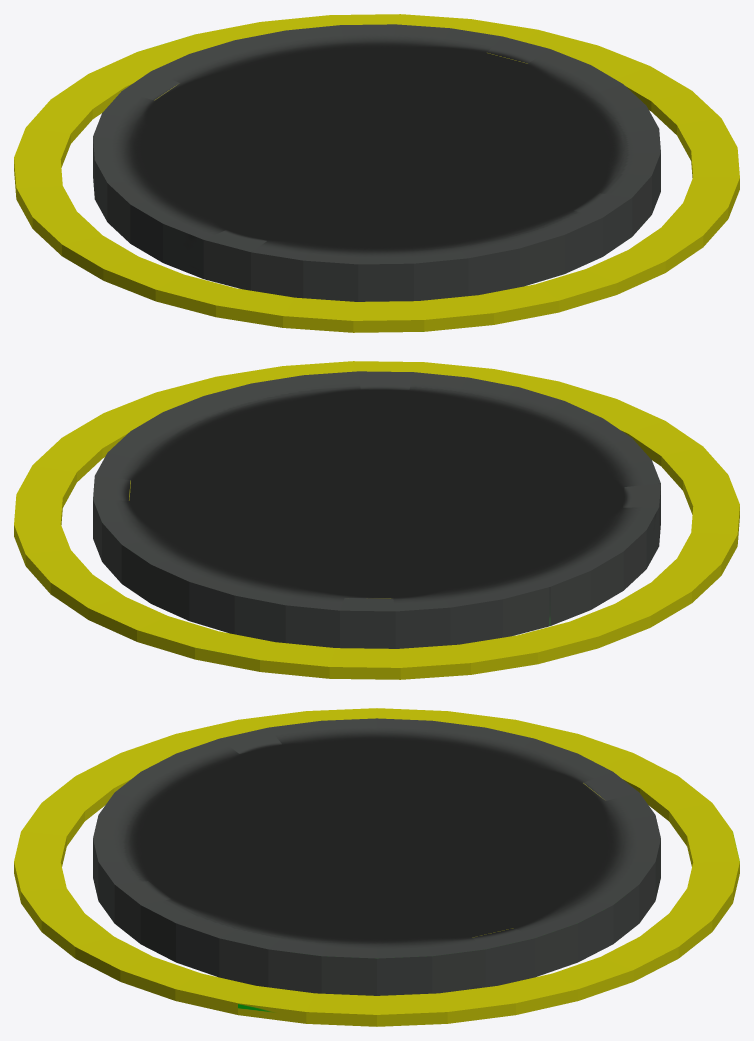
File: Notes.fbx
3 views of the same model, one above another, from view 1: azimuth 30°, elevation 25°; view 2: azimuth 150°, elevation 25°; view 3: azimuth 270°, elevation 25° (orthographic).
Visible parts, largest first — view 1: Cylinder; view 2: Cylinder; view 3: Cylinder.
Boxes of the visible parts, bbox=[...] form: Cylinder: bbox=[14, 14, 739, 332]; Cylinder: bbox=[14, 361, 739, 679]; Cylinder: bbox=[14, 708, 739, 1026].
Size of the model in its own units: 256 by 15.25 by 256.
